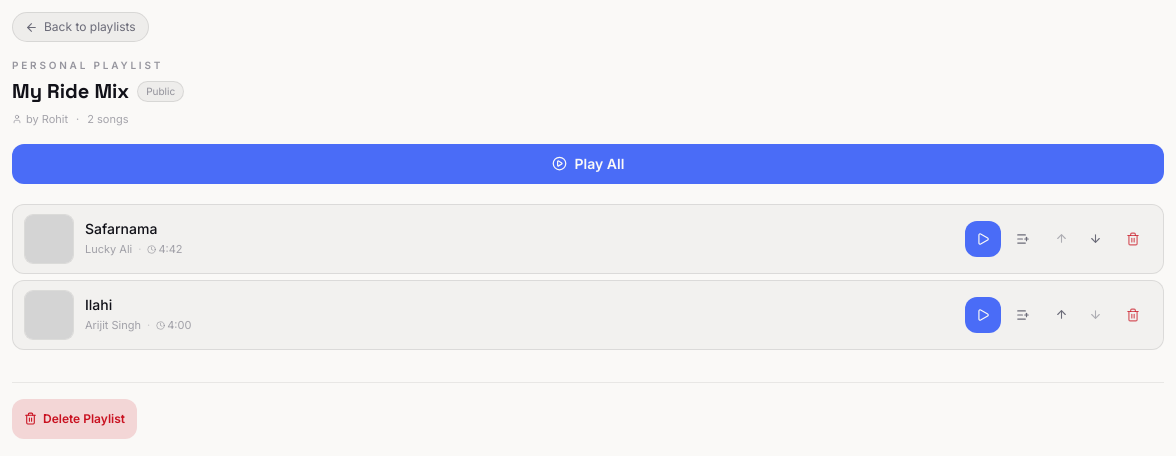
it: PlaylistDetail › removes a song and updates the count (owner only)
Expected: the text "Safarnama" is shown, [85,220,157,237]
Click the button named "remove safarnama" at (1133, 238), box [1115,220,1151,256]
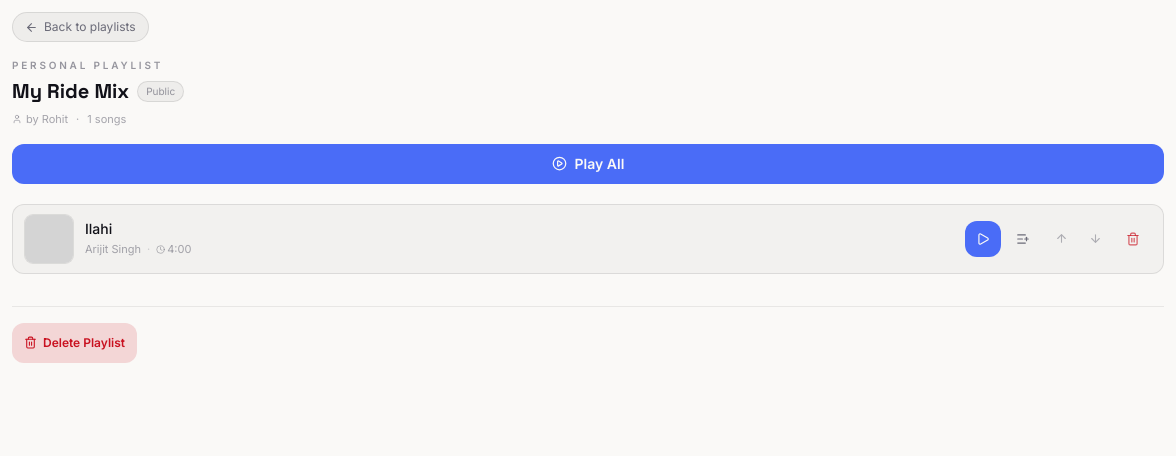
Expected: the text "Safarnama" is gone
